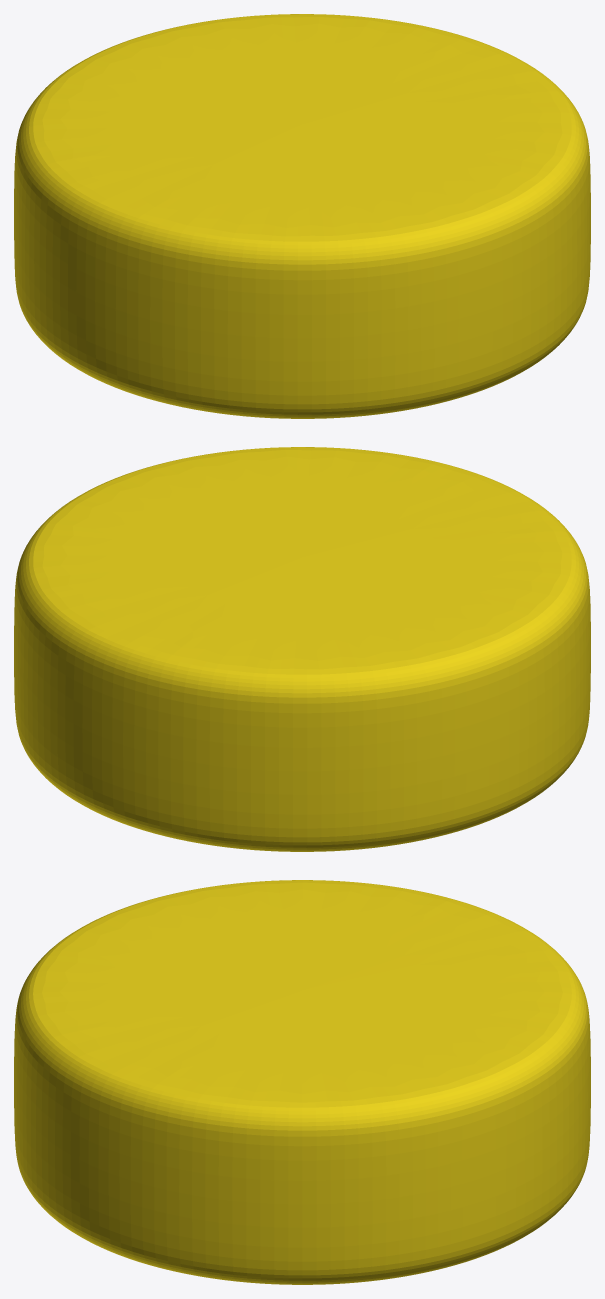
File: cheese_good.glb
3 views of the same model, one above another, from view 1: azimuth 30°, elevation 25°; view 2: azimuth 150°, elevation 25°; view 3: azimuth 270°, elevation 25° (orthographic).
Parts seen in each view (by area): view 1: Cylinder; view 2: Cylinder; view 3: Cylinder.
Part boxes in pixels (<box>): Cylinder: <box>14,14,590,418</box>; Cylinder: <box>14,447,590,851</box>; Cylinder: <box>14,880,590,1284</box>.
Bounding box in the file's own units: 1.19 × 0.4196 × 1.19.
